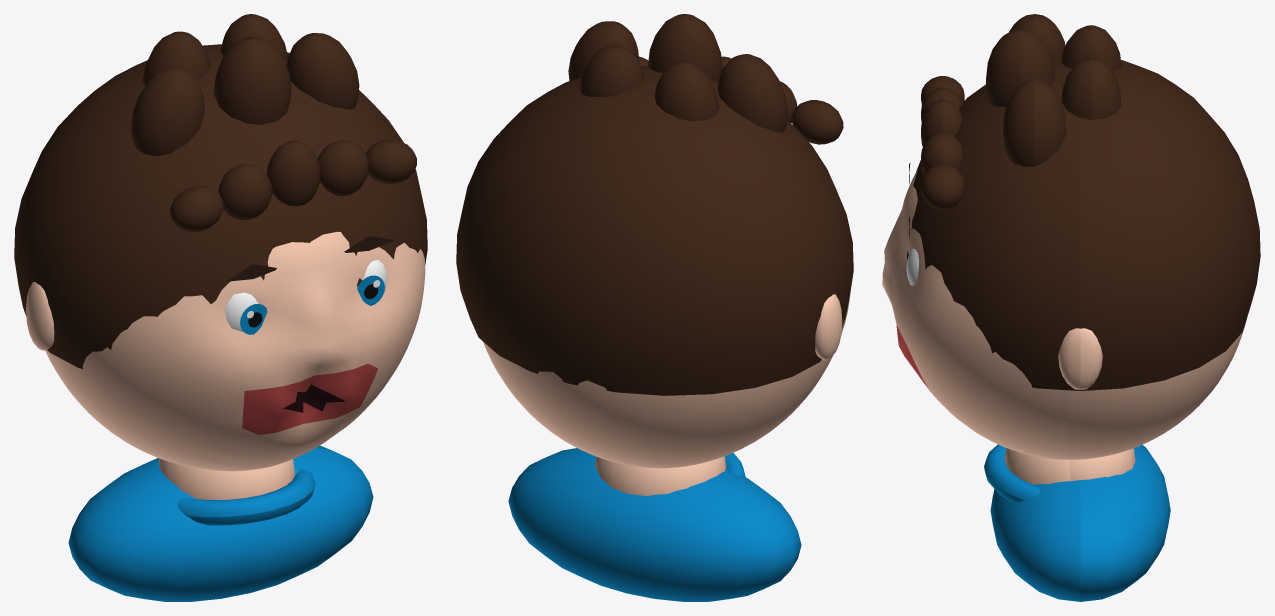
Rendered from toon-boy.glb.
3 renders of one model, left to right at view 1: azimuth 30°, elevation 25°; view 2: azimuth 150°, elevation 25°; view 3: azimuth 270°, elevation 25°, orthographic. The views are drawn at different scales.
Parts seen in each view (by area): view 1: Hair, Head, Shoulders, Collar, Neck, EarL, EyeL_Sclera; view 2: Hair, Shoulders, Head, Neck, EarL; view 3: Hair, Head, Shoulders, Neck, EarR, Collar.
Boxes of the visible parts, bbox=[...] form: Hair: bbox=[14, 14, 427, 368]; Head: bbox=[45, 231, 425, 471]; Shoulders: bbox=[68, 445, 373, 601]; Collar: bbox=[177, 469, 315, 525]; Neck: bbox=[158, 458, 295, 499]; EarL: bbox=[26, 282, 54, 350]; EyeL_Sclera: bbox=[225, 292, 258, 331]; Hair: bbox=[456, 14, 853, 395]; Shoulders: bbox=[508, 448, 801, 601]; Head: bbox=[483, 294, 850, 468]; Neck: bbox=[595, 456, 726, 495]; EarL: bbox=[815, 294, 842, 360]; Hair: bbox=[907, 14, 1260, 390]; Head: bbox=[882, 170, 1246, 459]; Shoulders: bbox=[990, 444, 1170, 601]; Neck: bbox=[1004, 448, 1135, 484]; EarR: bbox=[1058, 328, 1102, 389]; Collar: bbox=[984, 444, 1040, 502].
Size of the model in its own units: 1.18 by 1.69 by 1.07.
